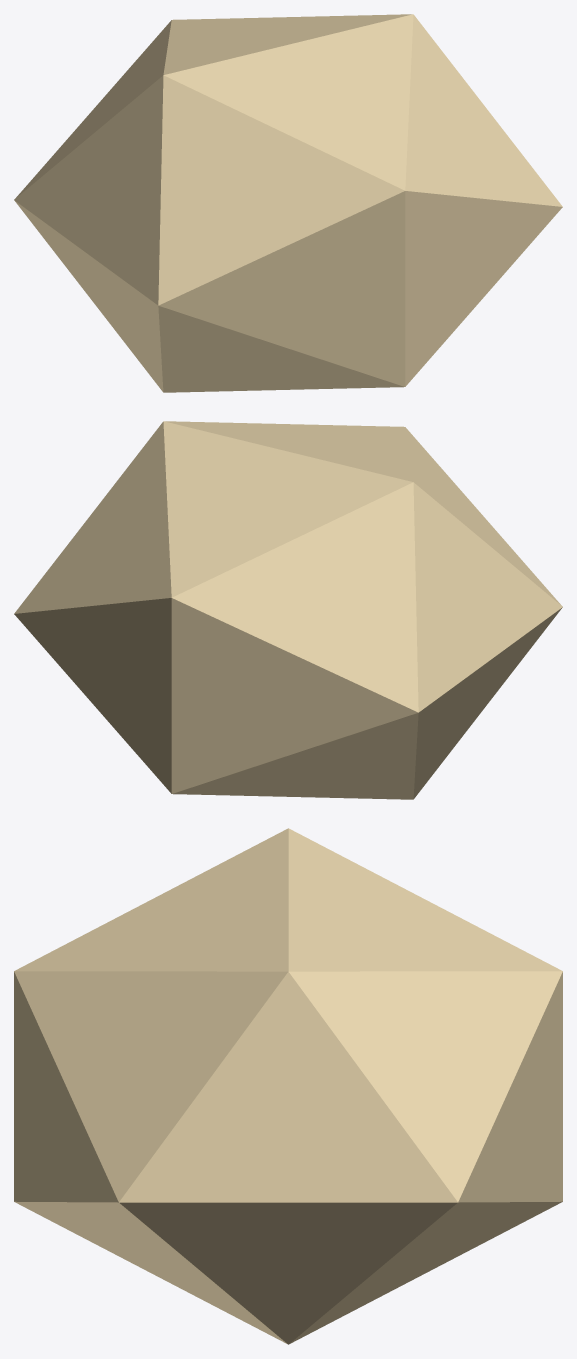
File: dust.glb
3 renders of one model, top to bottom at view 1: azimuth 30°, elevation 25°; view 2: azimuth 150°, elevation 25°; view 3: azimuth 270°, elevation 25°, orthographic. The views are drawn at different scales.
Visible parts, largest first — view 1: dust; view 2: dust; view 3: dust.
Boxes of the visible parts, bbox=[...] form: dust: bbox=[14, 14, 562, 392]; dust: bbox=[14, 421, 562, 799]; dust: bbox=[14, 828, 562, 1344].
Size of the model in its own units: 0.2722 by 0.2042 by 0.2722.
